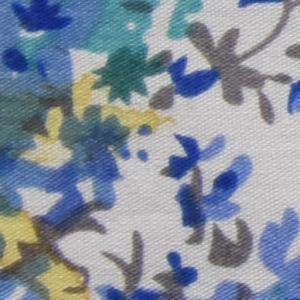Oil Stain: (1, 70, 182, 168), (1, 191, 95, 300)
